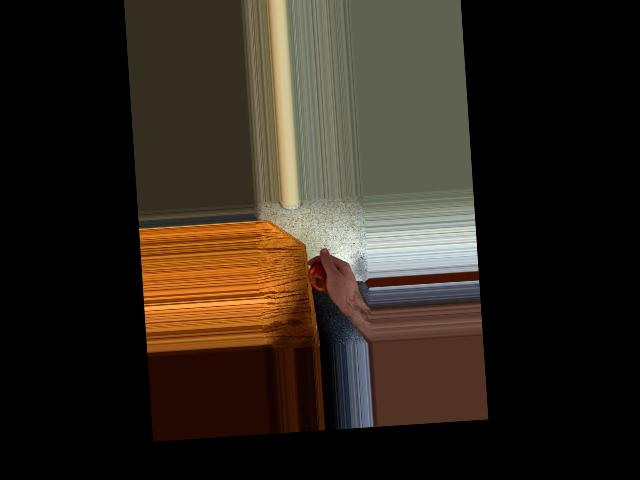apple: (305, 259, 342, 296)
